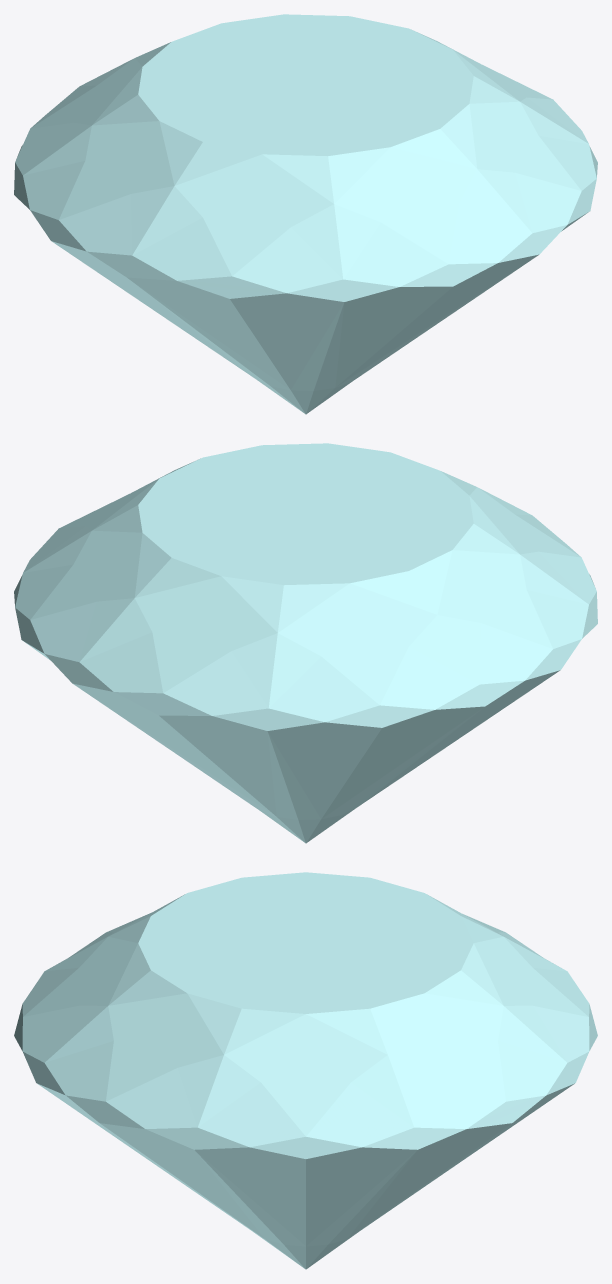
3 renders of one model, top to bottom at view 1: azimuth 30°, elevation 25°; view 2: azimuth 150°, elevation 25°; view 3: azimuth 270°, elevation 25°, orthographic.
Parts seen in each view (by area): view 1: pCone1; view 2: pCone1; view 3: pCone1.
Boxes of the visible parts, x1=… form: pCone1: x1=14, y1=14, x2=597, y2=414; pCone1: x1=14, y1=443, x2=597, y2=843; pCone1: x1=14, y1=872, x2=597, y2=1269.
Bounding box in the file's own units: 2 × 1.23 × 2.
